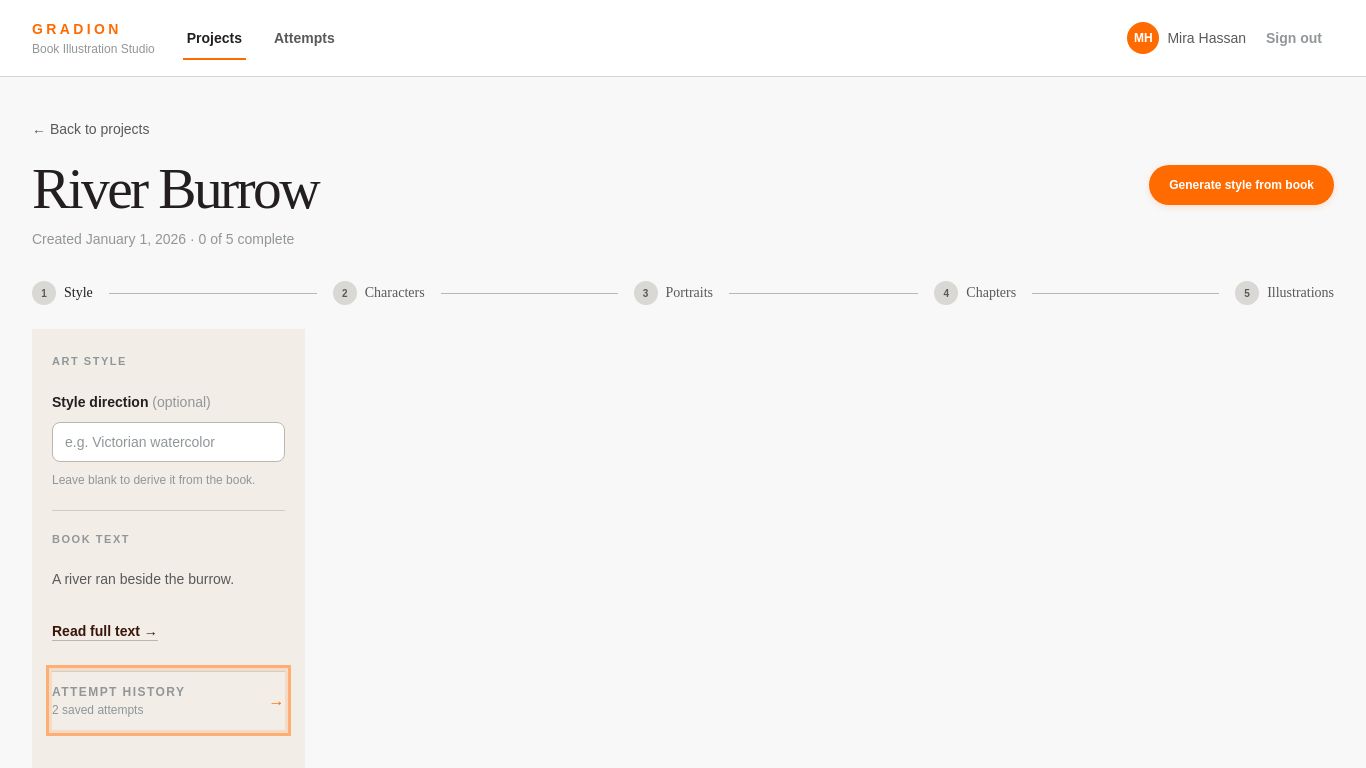
Test: foundation app shell › opens every persisted project attempt in a bounded dialog
Click the button "Attempt history 2 saved attempts →". click: coordinates (168, 701)
box: [52,671,285,730]
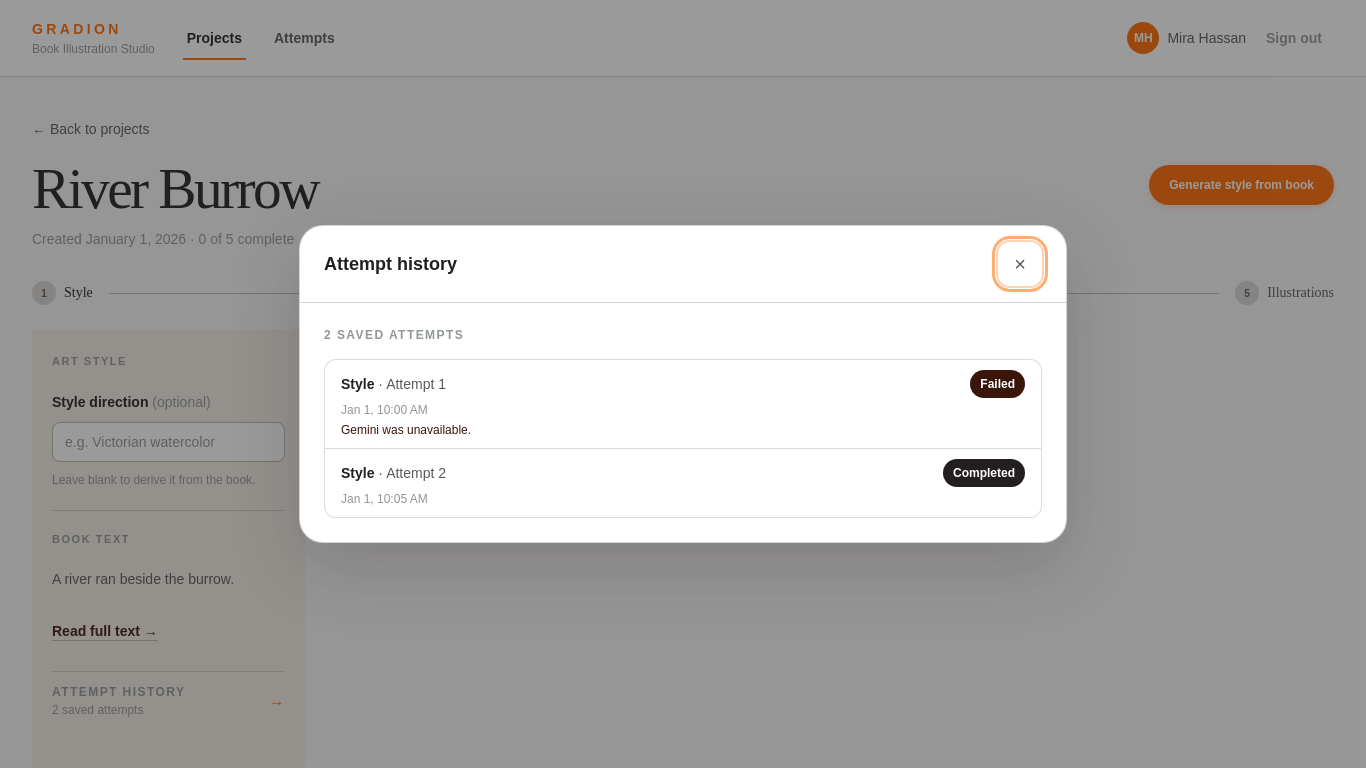
Result: the dialog "Attempt history" is shown
Result: the text "Style · Attempt 1" is shown at [341,374,446,394]
Result: the text "Style · Attempt 2" is shown at [341,463,446,483]
Press Escape in the dialog "Attempt history"
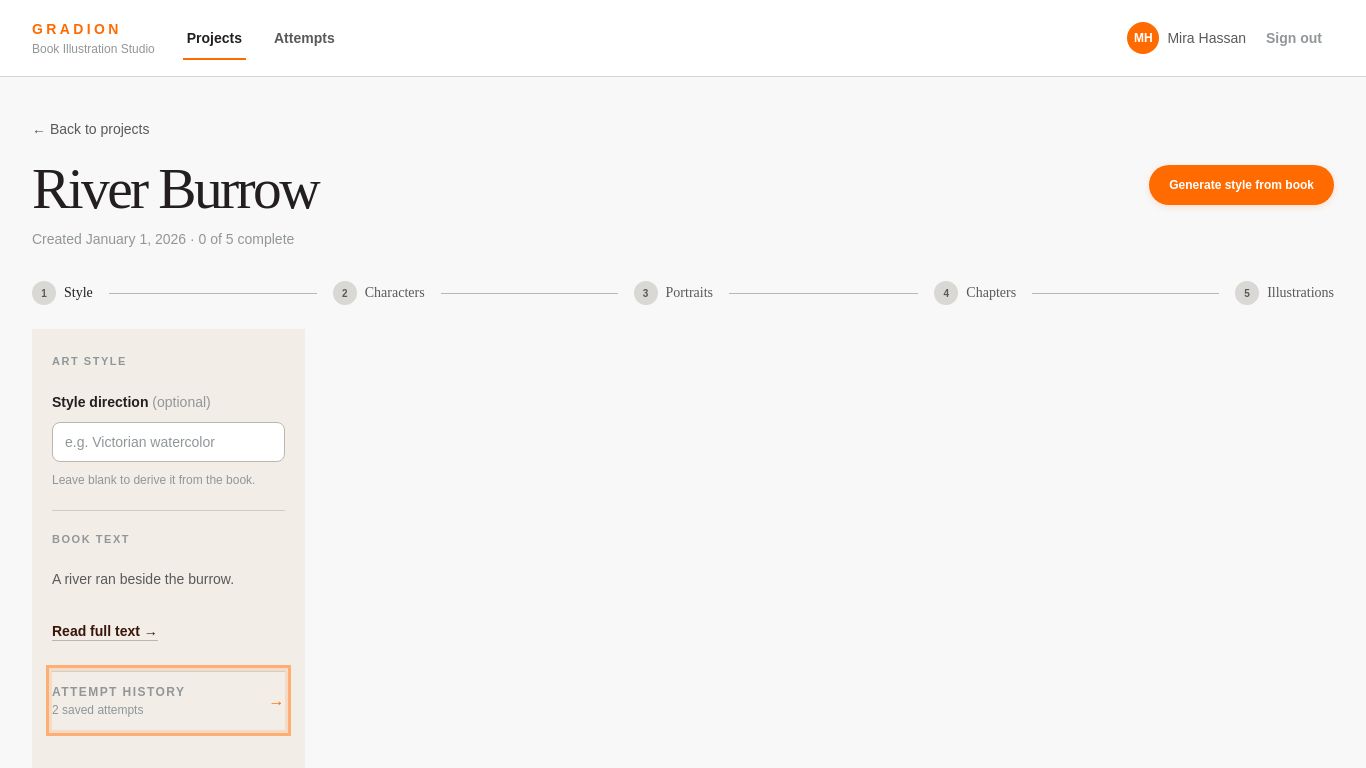
Result: the dialog is gone
